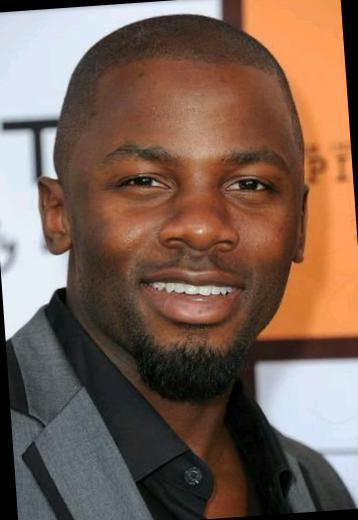Sober: (92, 68, 294, 358)
